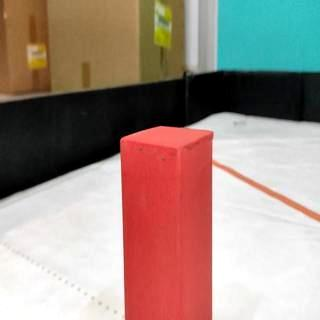redbox: (120, 125, 212, 320)
